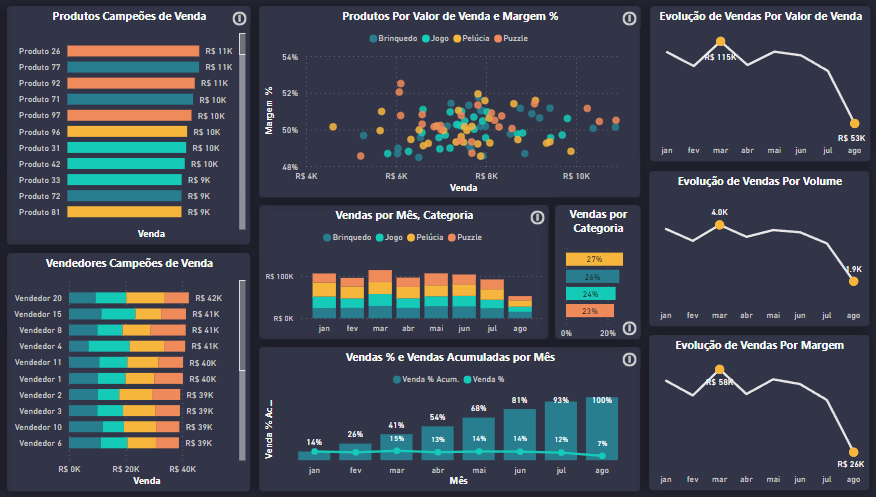

This screenshot's page, from the dashboard's own definition file:
{"tool":"powerbi","page":{"name":"Página Principal","canvas":[1280,720],"ordinal":0},"visuals":[{"type":"columnChart","title":"Vendas por Mês, Categoria","fields":{"Category":["dim_calendário.ds_mes_abrev"],"Series":["dim_produto.ds_categoria_produto"],"Y":["Medidas.Venda"]},"box":[491.4,344.3,368.6,171.4],"z":0},{"type":"barChart","title":"Produtos Campeões de Venda","fields":{"Category":["dim_produto.ds_nome_produto"],"Y":["Medidas.Venda"],"Series":["dim_produto.ds_categoria_produto"]},"box":[170,90,310,304],"z":1000},{"type":"lineChart","title":"Evolução de Vendas Por Volume","fields":{"Category":["dim_calendário.ds_mes_abrev"],"Y":["Medidas.Volume","Medidas.Volume (Rótulo)"]},"box":[987.9,300.5,280.6,198.4],"z":2000},{"type":"scatterChart","title":"Produtos Por Valor de Venda e Margem %","fields":{"X":["Medidas.Venda"],"Category":["dim_produto.ds_nome_produto"],"Y":["Medidas.Margem %"],"Series":["dim_produto.ds_categoria_produto"]},"box":[491.4,90,485.7,244.3],"z":3000},{"type":"lineStackedColumnComboChart","title":"Vendas % e Vendas Acumuladas por Mês","fields":{"Category":["dim_calendário.ds_mes_abrev"],"Y":["Medidas.Venda % Acum."],"Y2":["Medidas.Venda %"]},"box":[491.4,525.7,485.7,184.3],"z":4000},{"type":"lineChart","title":"Evolução de Vendas Por Valor de Venda","fields":{"Category":["dim_calendário.ds_mes_abrev"],"Y":["Medidas.Venda","Medidas.Venda (Rótulo)"]},"box":[989.3,90.7,280.6,198.4],"z":5000},{"type":"lineChart","title":"Evolução de Vendas Por Margem","fields":{"Category":["dim_calendário.ds_mes_abrev"],"Y":["Medidas.Margem","Medidas.Margem (Rótulo)"]},"box":[987.9,510.2,280.6,198.4],"z":6000},{"type":"shape","box":[0,0,1280,80],"z":7000},{"type":"barChart","title":"Vendedores Campeões de Venda","fields":{"Category":["dim_vendedor.ds_nome_vendedor"],"Y":["Medidas.Venda"],"Series":["dim_produto.ds_categoria_produto"]},"box":[170,405.7,310,303.6],"z":8000},{"type":"barChart","title":"Vendas por Categoria","fields":{"Category":["dim_produto.ds_categoria_produto"],"Y":["Medidas.Venda %"],"Series":["dim_produto.ds_categoria_produto"]},"box":[868.6,344.3,108.6,171.4],"z":9000},{"type":"card","fields":{"Values":["Medidas.Venda"]},"box":[11.4,90,147.1,198],"z":10000},{"type":"card","fields":{"Values":["Medidas.Margem"]},"box":[11.4,300,147.1,198.6],"z":11000},{"type":"slicer","title":"Período","fields":{"Values":["dim_calendário.nr_mes"]},"box":[377.3,4.8,151.6,70],"z":12000},{"type":"slicer","title":"Categoria","fields":{"Values":["dim_produto.ds_categoria_produto"]},"box":[751,4.8,150.3,70],"z":13000},{"type":"slicer","title":"Subcategoria","fields":{"Values":["dim_produto.ds_subcategoria_produto"]},"box":[937.2,4.8,150.3,70],"z":14000},{"type":"slicer","title":"Vendedor","fields":{"Values":["dim_vendedor.ds_nome_vendedor"]},"box":[1123.3,4.8,150.3,70],"z":15000},{"type":"slicer","title":"Produto","fields":{"Values":["dim_produto.ds_nome_produto"]},"box":[564.8,4.8,150.3,70],"z":16000},{"type":"card","fields":{"Values":["Medidas.Volume"]},"box":[11.4,510,147.1,198.6],"z":17000},{"type":"image","box":[5,0,158.3,80],"z":18000},{"type":"actionButton","box":[450,90,30,30],"z":19000},{"type":"actionButton","box":[947.1,90,30,30],"z":20000},{"type":"actionButton","box":[947.1,484.3,30,31.4],"z":21000},{"type":"actionButton","box":[830,344.3,30,30],"z":22000},{"type":"actionButton","box":[947.1,525.7,30,30],"z":23000},{"type":"slicer","title":"Ano","fields":{"Values":["dim_calendário.nr_ano"]},"box":[191.4,4.3,150,70],"z":24000}]}

Visuals, with their boxes in screenshot pixels (x1, y1, x2, y2), scaled from the page's 1280x720 canvas onto the 876x497 screenshot:
"Vendas por Mês, Categoria" columnChart: BBox(336, 238, 589, 356)
"Produtos Campeões de Venda" barChart: BBox(116, 62, 328, 272)
"Evolução de Vendas Por Volume" lineChart: BBox(676, 207, 868, 344)
"Produtos Por Valor de Venda e Margem %" scatterChart: BBox(336, 62, 669, 231)
"Vendas % e Vendas Acumuladas por Mês" lineStackedColumnComboChart: BBox(336, 363, 669, 490)
"Evolução de Vendas Por Valor de Venda" lineChart: BBox(677, 63, 869, 200)
"Evolução de Vendas Por Margem" lineChart: BBox(676, 352, 868, 489)
shape: BBox(0, 0, 875, 55)
"Vendedores Campeões de Venda" barChart: BBox(116, 280, 328, 490)
"Vendas por Categoria" barChart: BBox(594, 238, 669, 356)
card - Medidas.Venda: BBox(8, 62, 108, 199)
card - Medidas.Margem: BBox(8, 207, 108, 344)
"Período" slicer: BBox(258, 3, 362, 52)
"Categoria" slicer: BBox(514, 3, 617, 52)
"Subcategoria" slicer: BBox(641, 3, 744, 52)
"Vendedor" slicer: BBox(769, 3, 872, 52)
"Produto" slicer: BBox(387, 3, 489, 52)
card - Medidas.Volume: BBox(8, 352, 108, 489)
image: BBox(3, 0, 112, 55)
actionButton: BBox(308, 62, 328, 83)
actionButton: BBox(648, 62, 669, 83)
actionButton: BBox(648, 334, 669, 356)
actionButton: BBox(568, 238, 589, 258)
actionButton: BBox(648, 363, 669, 384)
"Ano" slicer: BBox(131, 3, 234, 51)
